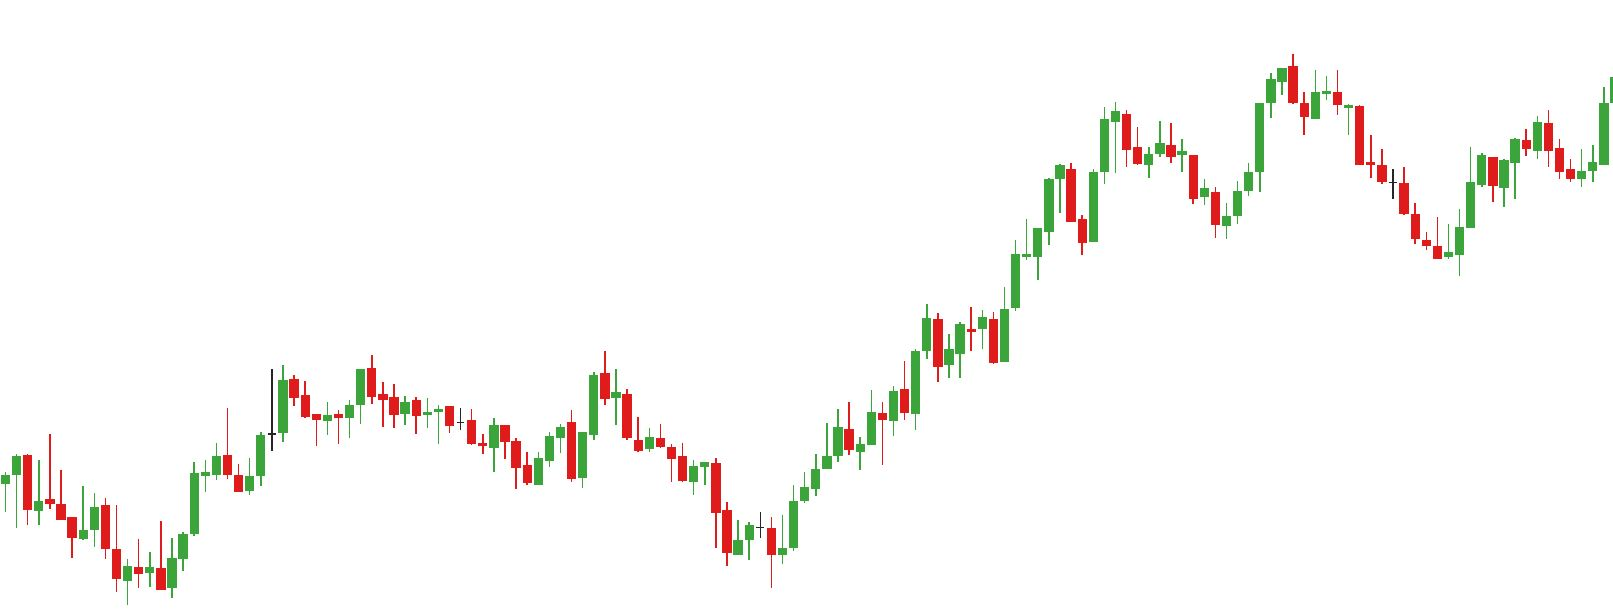sell: (1098, 47, 1311, 161)
